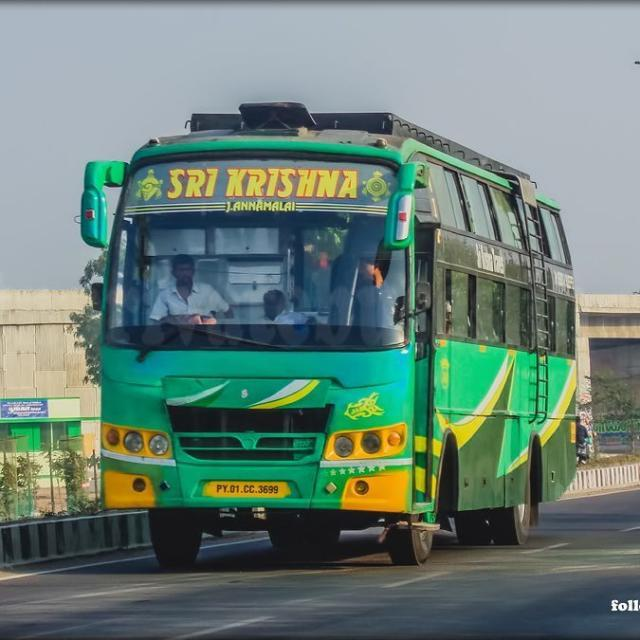Bus: (74, 99, 578, 569)
